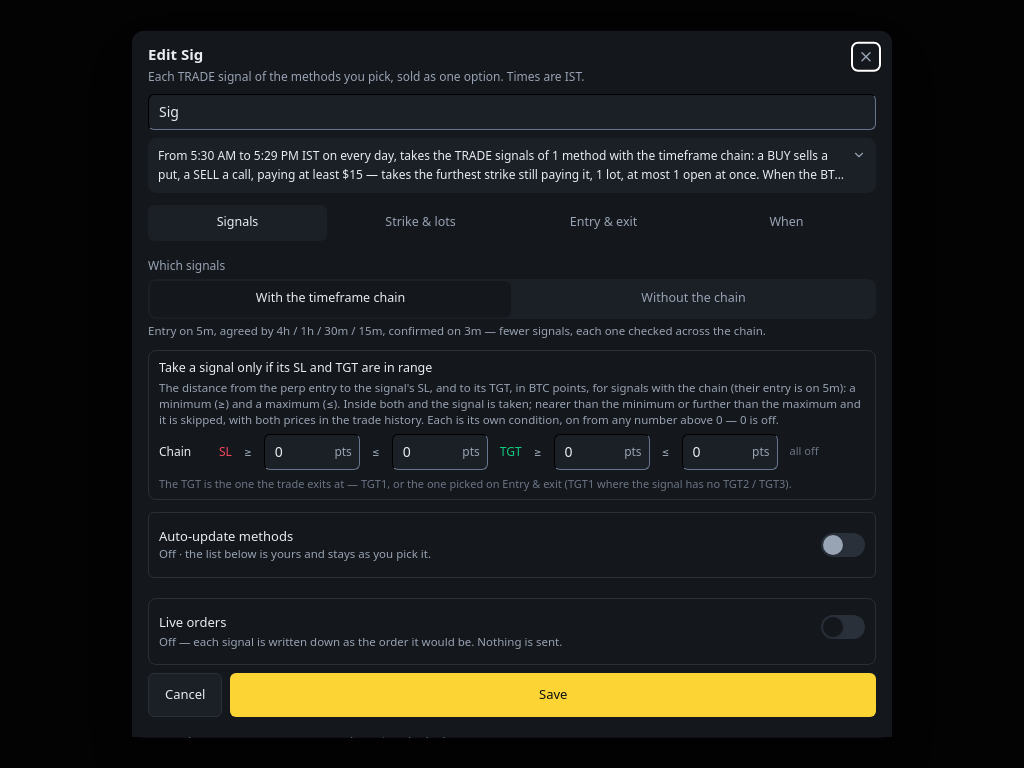
Test: a form of its own: only what a signal strategy has › [critical] the leg is the signal's: BUY sells the PE, SELL the CE -- and the strike by premium or by strike
Click the tab "Strike & lots": (420, 222) [331,204,510,240]
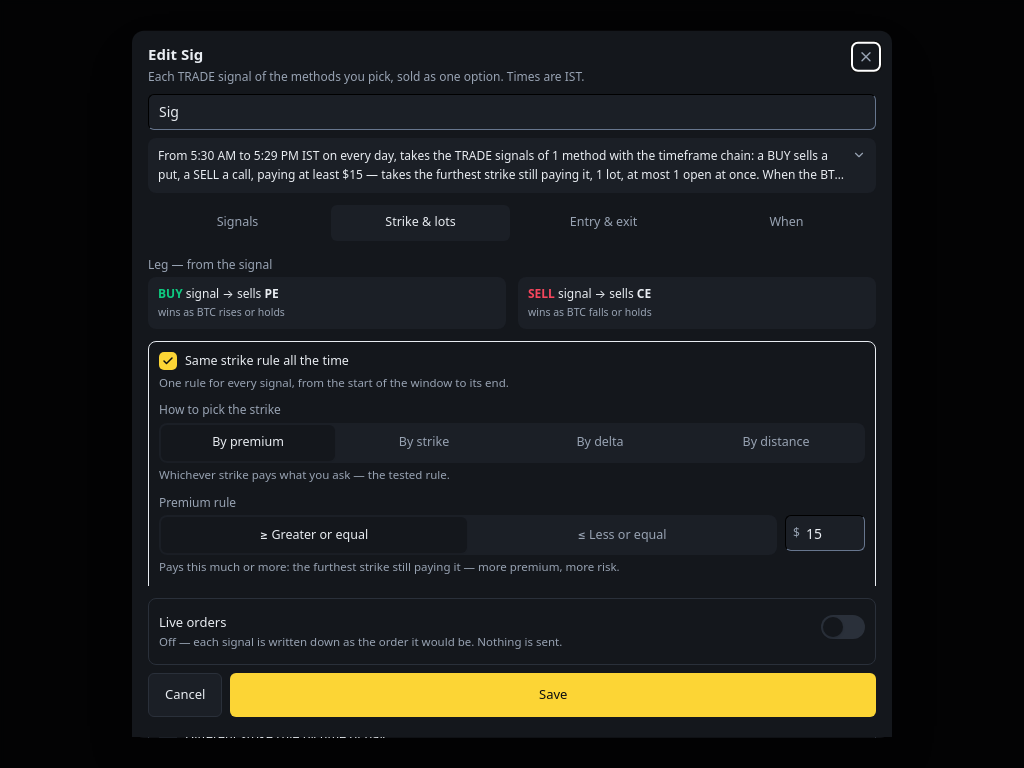
Check: the element named "leg from the signal" shows "BUY signal → sells PE", box [148,277,876,328]
Check: the element named "leg from the signal" shows "SELL signal → sells CE", box [148,277,876,328]
Check: the radio button labelled "≥ Greater or equal" is shown, box [161,517,467,553]
Click the radio button labelled "By strike": (424, 442) [337,424,511,460]
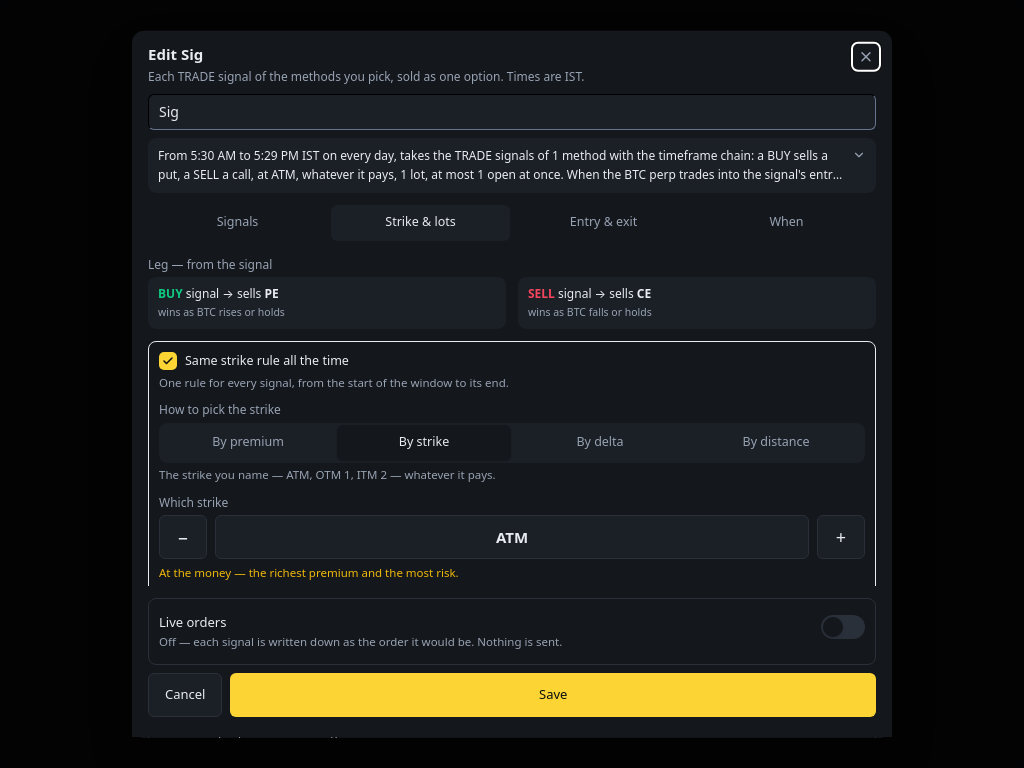
Click the button named "one strike further out": (841, 537) [817,515,865,559]
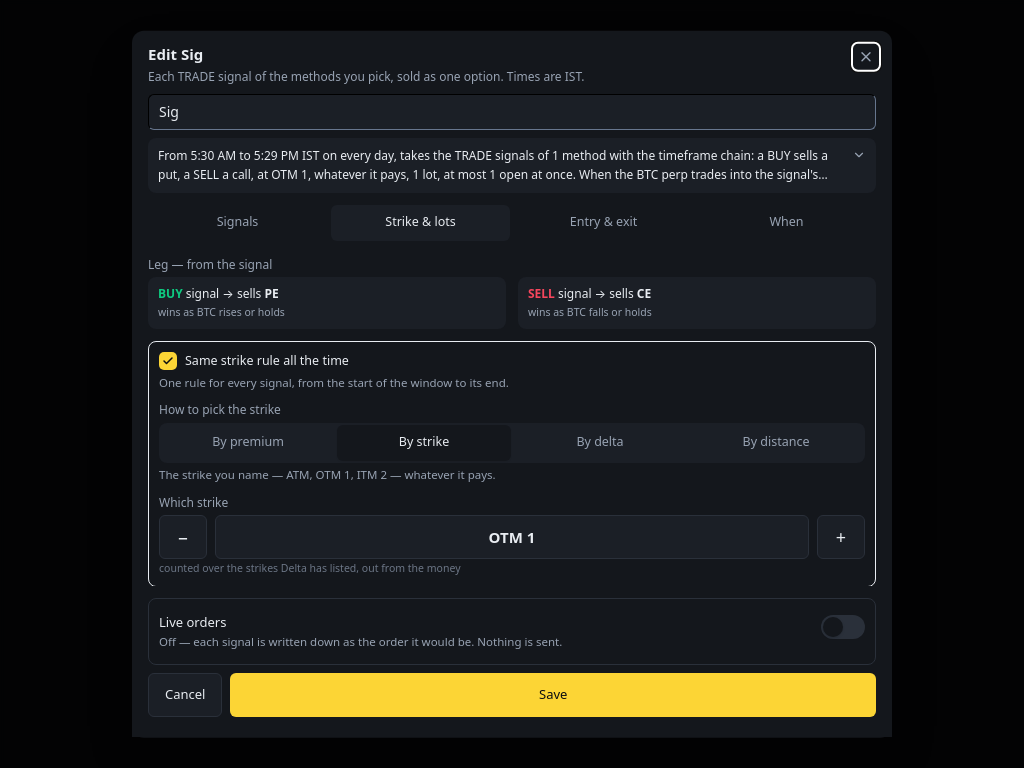
Check: the message named "which strike" reads "OTM 1", box [489,527,535,547]
